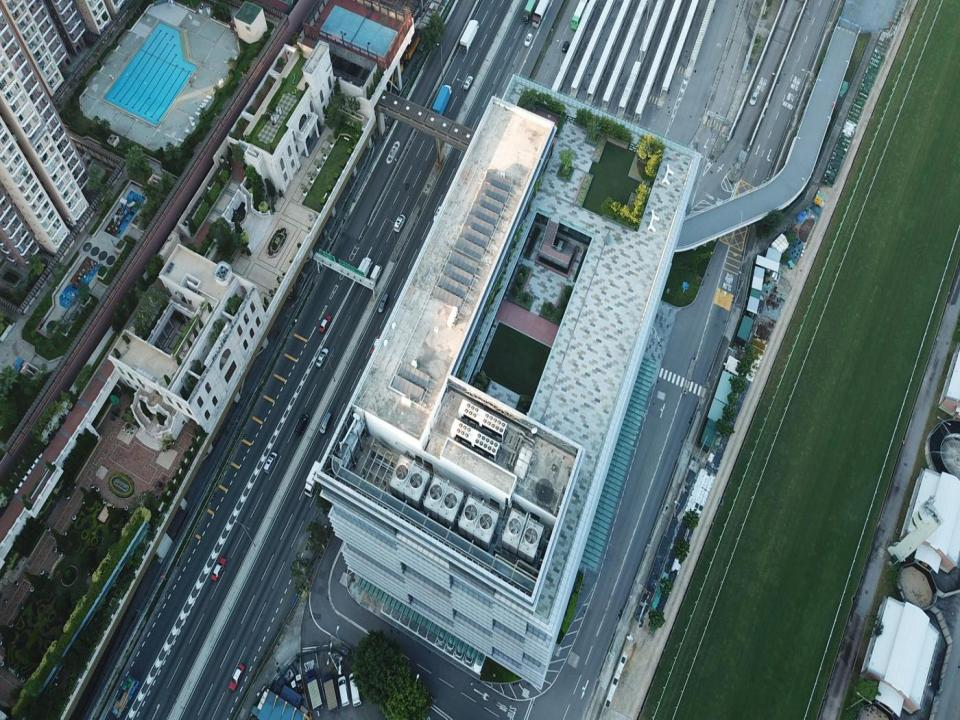bus: (570, 0, 588, 29)
car: (229, 663, 245, 691), (211, 557, 226, 581), (370, 336, 384, 354), (316, 348, 329, 366), (393, 215, 405, 232), (320, 315, 330, 333), (750, 90, 759, 105), (524, 33, 533, 46), (464, 76, 472, 88), (562, 41, 570, 52)
truck: (110, 675, 140, 719), (306, 669, 323, 712), (323, 672, 339, 714), (460, 19, 479, 53), (432, 84, 452, 116), (304, 461, 321, 497), (531, 0, 549, 27), (356, 257, 373, 282), (522, 0, 537, 25), (370, 264, 382, 283)
van: (349, 673, 363, 707), (338, 676, 350, 707), (264, 452, 278, 474), (319, 412, 332, 434), (295, 414, 308, 435), (379, 294, 388, 312)
